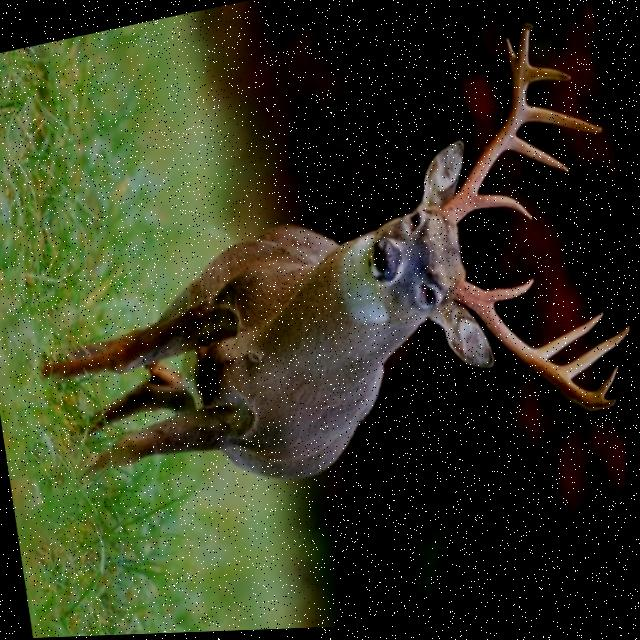E1: (506, 40, 516, 67)
E2: (588, 400, 618, 415)
L-F: (456, 282, 621, 412)
L-G1: (489, 281, 536, 306)
L-G2: (537, 315, 606, 362)
L-G3: (561, 326, 632, 383)
R-F: (440, 26, 534, 225)
R-G1: (468, 197, 533, 223)
R-G2: (507, 139, 570, 175)
R-G3: (522, 106, 604, 137)
R-G4: (527, 66, 572, 87)
